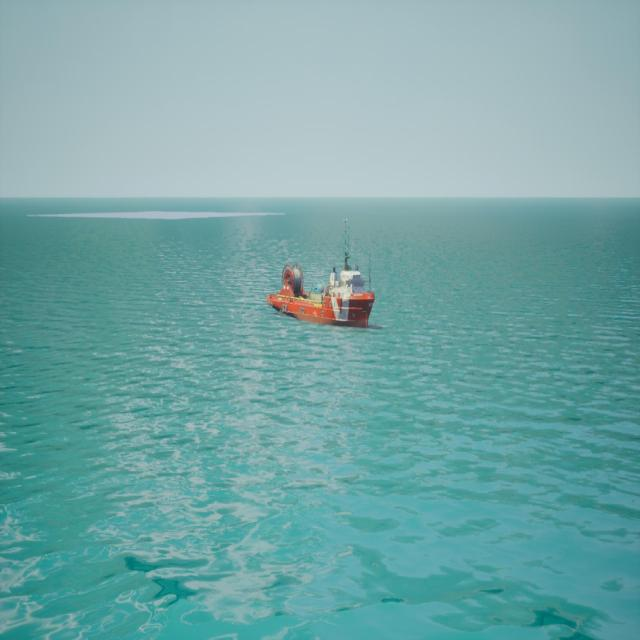tug boat: (268, 222, 378, 332)
